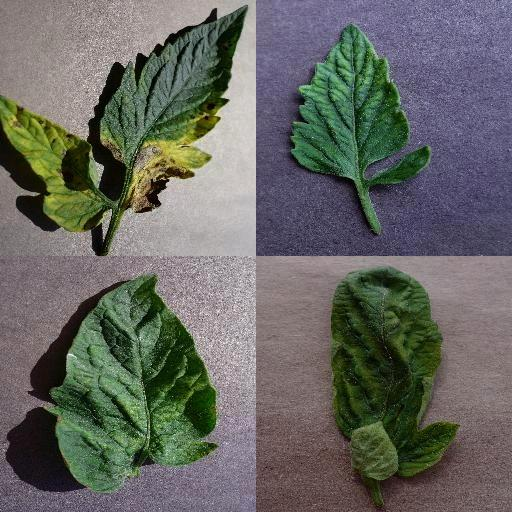Early Blight: (100, 5, 248, 215)
Mosaic Virus: (291, 21, 431, 187)
Spider Mites: (54, 272, 219, 494)
Yellow Leaf Curl Virus: (330, 264, 460, 480)
